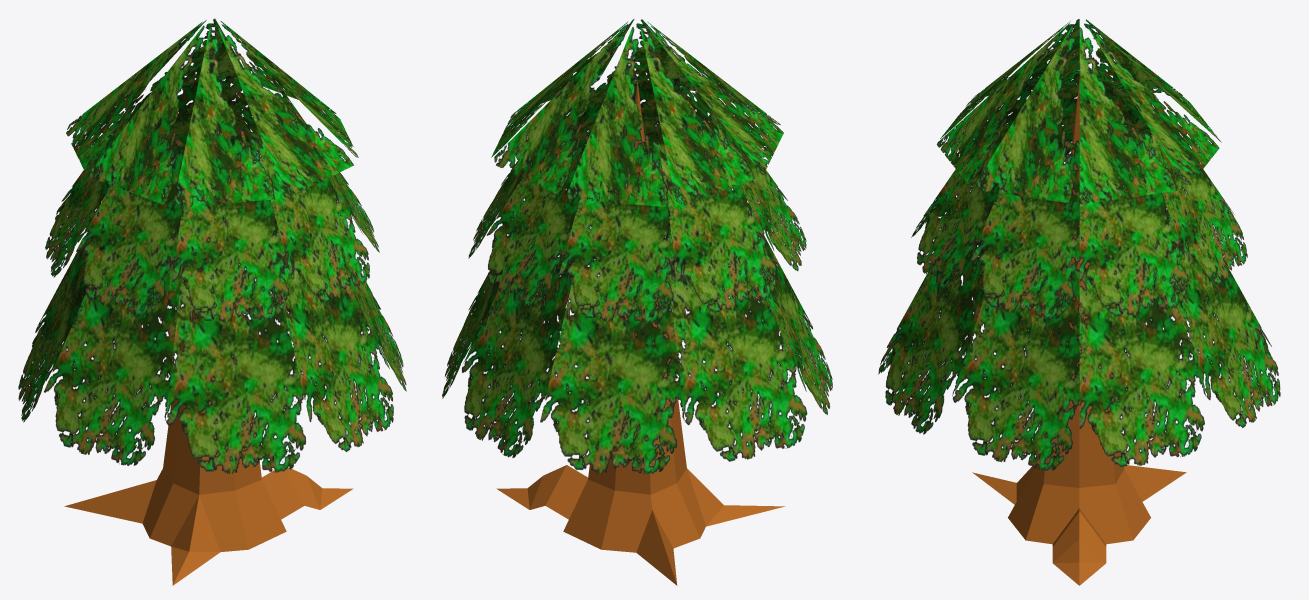
Rendered from sTree4.glb.
3 renders of one model, left to right at view 1: azimuth 30°, elevation 25°; view 2: azimuth 150°, elevation 25°; view 3: azimuth 270°, elevation 25°, orthographic.
Visible parts, largest first — view 1: tree2; view 2: tree2; view 3: tree2.
Part boxes in pixels (x1,y1,x2,y2): tree2: [18, 18, 406, 585]; tree2: [442, 19, 832, 585]; tree2: [878, 19, 1280, 585].
Bounding box in the file's own units: 1.8 × 2.33 × 1.8.
2 materials, 1 textured.
